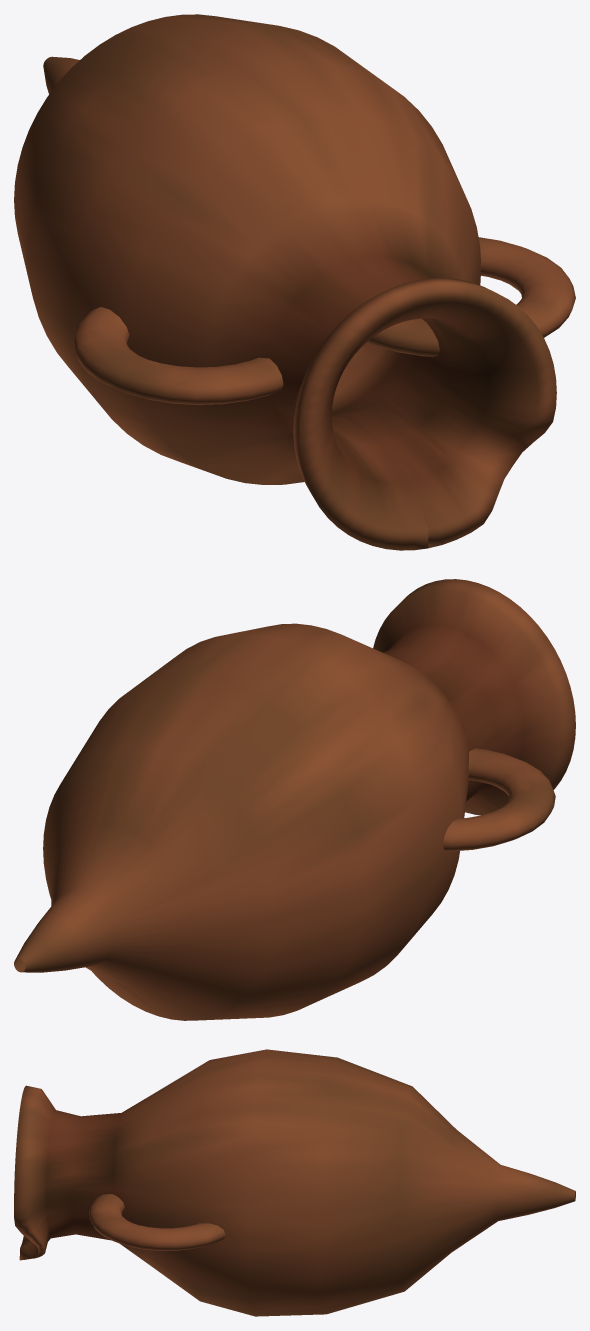
Rendered from amphora.glb.
3 views of the same model, one above another, from view 1: azimuth 30°, elevation 25°; view 2: azimuth 150°, elevation 25°; view 3: azimuth 270°, elevation 25° (orthographic). The views are drawn at different scales.
Visible parts, largest first — view 1: amphora-body, amphora-handles; view 2: amphora-body, amphora-handles; view 3: amphora-body, amphora-handles.
Boxes of the visible parts, bbox=[...] form: amphora-body: bbox=[14, 14, 556, 550]; amphora-handles: bbox=[73, 237, 575, 404]; amphora-body: bbox=[14, 579, 575, 1020]; amphora-handles: bbox=[443, 748, 555, 851]; amphora-body: bbox=[14, 1049, 575, 1316]; amphora-handles: bbox=[89, 1194, 225, 1250].
Bounding box in the file's own units: 130 × 110 × 230.
